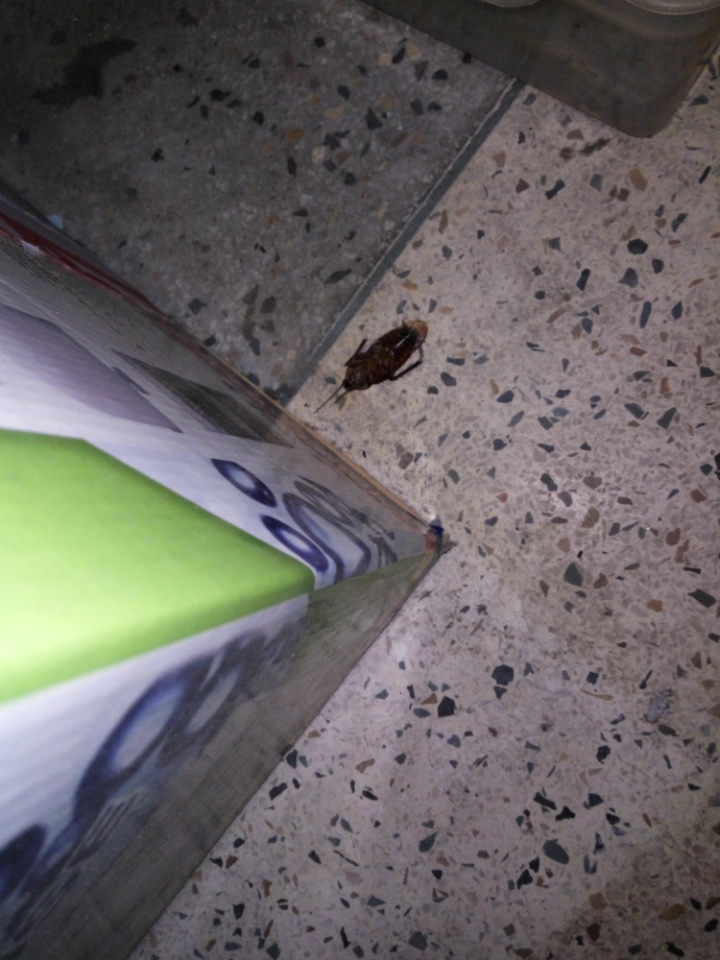cockroach: (276, 310, 471, 410)
